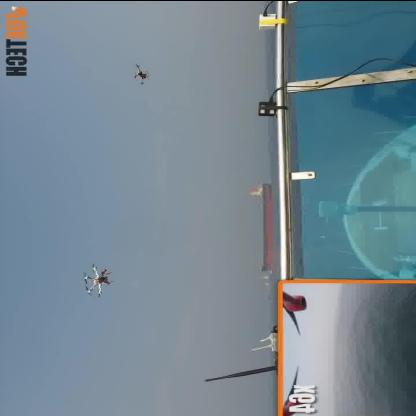drone: (72, 258, 122, 305), (128, 58, 155, 87)
